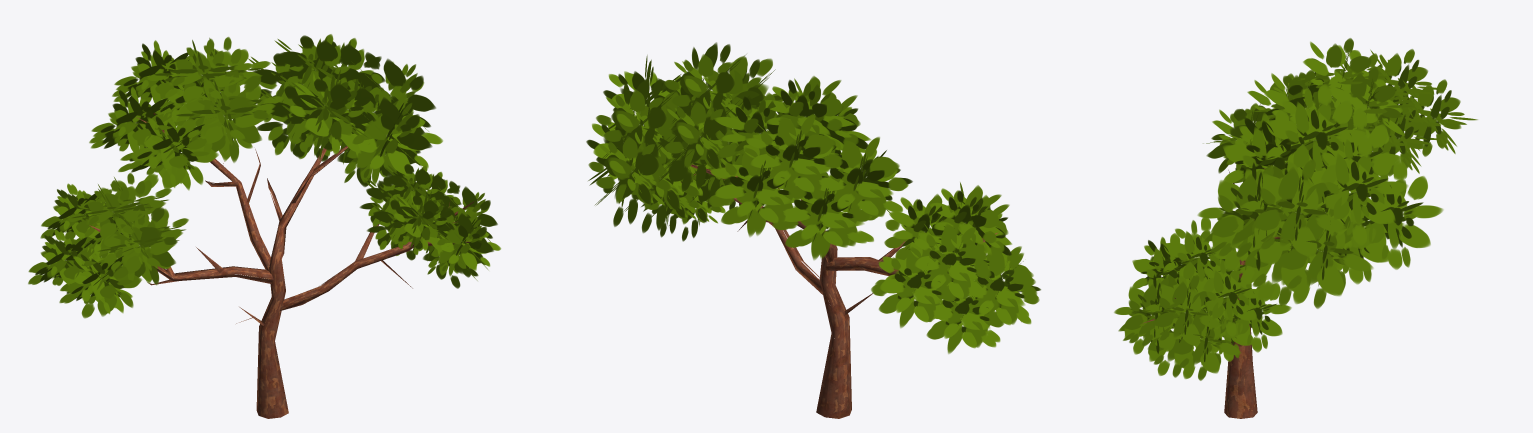
Rendered from tree (800 fc).glb.
The picture shows the model from 3 angles, left to right: view 1: azimuth 30°, elevation 25°; view 2: azimuth 150°, elevation 25°; view 3: azimuth 270°, elevation 25°; orthographic projection. The views are drawn at different scales.
Visible parts, largest first — view 1: bush.002, bush.001, bush.004, bush.003, DeadTree_8; view 2: bush.001, bush.002, bush.004, DeadTree_8, bush.003; view 3: bush.002, bush.003, bush.001, DeadTree_8, bush.004.
Boxes of the visible parts, box(x1,y1,x2,y2) form: bush.002: box(248, 34, 442, 189); bush.001: box(89, 37, 283, 190); bush.004: box(28, 173, 188, 318); bush.003: box(359, 164, 500, 288); DeadTree_8: box(89, 113, 478, 418); bush.001: box(708, 76, 912, 260); bush.002: box(586, 42, 783, 233); bush.004: box(871, 182, 1040, 353); DeadTree_8: box(681, 164, 998, 418); bush.003: box(641, 161, 740, 241); bush.002: box(1197, 84, 1443, 308); bush.003: box(1114, 218, 1291, 380); bush.001: box(1253, 38, 1477, 176); DeadTree_8: box(1143, 168, 1280, 418); bush.004: box(1203, 73, 1399, 181).
Bounding box in the file's own units: 10.16 × 8.11 × 8.13.
Materials: 2 (2 with a texture image).
